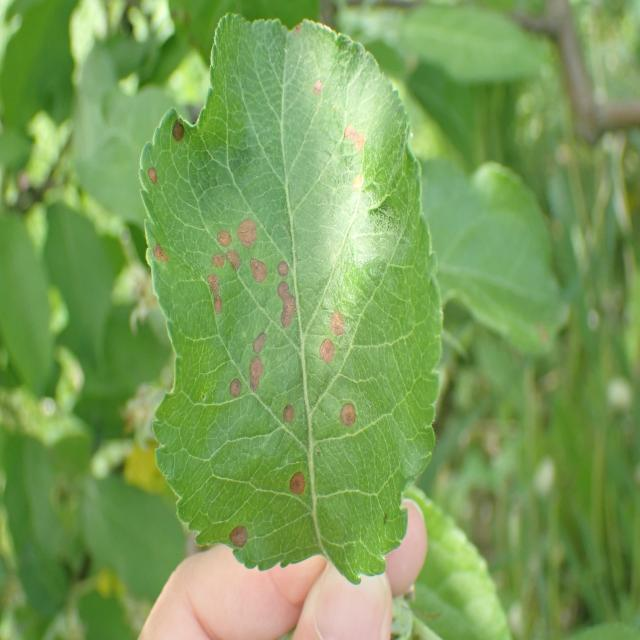Black Rot: (206, 513, 262, 558), (332, 112, 378, 166), (270, 280, 300, 348), (328, 391, 367, 438), (197, 273, 229, 327), (308, 326, 343, 374), (342, 168, 376, 214), (301, 67, 336, 109), (245, 246, 273, 297), (245, 357, 277, 400), (159, 106, 193, 146), (197, 214, 232, 252), (229, 213, 266, 248), (222, 357, 244, 415), (147, 243, 178, 280), (247, 322, 273, 366), (284, 468, 314, 506), (327, 304, 352, 349), (141, 156, 167, 197), (207, 248, 242, 276), (275, 256, 300, 286), (278, 394, 298, 430)
